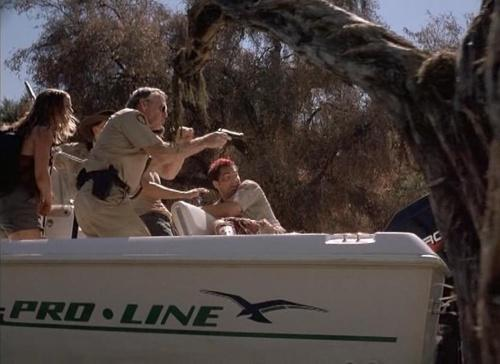Gun: (217, 126, 244, 147)
